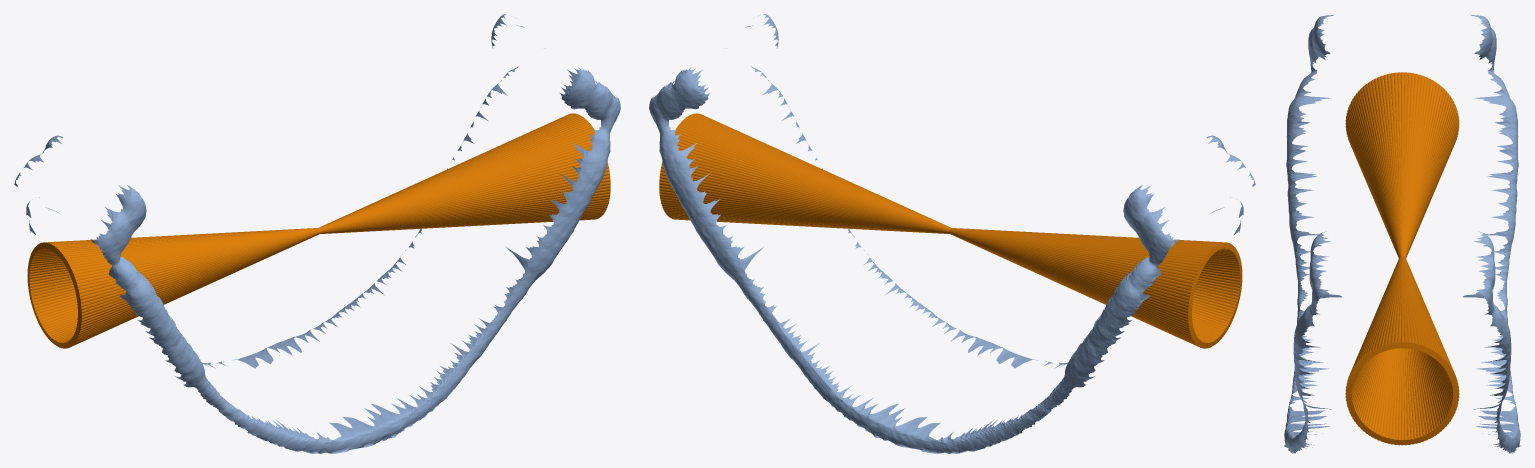
Rendered from A60026429-1_6150-37-528-8134_DigitalTwin.glb.
3 renders of one model, left to right at view 1: azimuth 30°, elevation 25°; view 2: azimuth 150°, elevation 25°; view 3: azimuth 270°, elevation 25°, orthographic. The views are drawn at different scales.
Visible parts, largest first — view 1: world; view 2: world; view 3: world.
Part boxes in pixels (<box>): world: <box>14,14,620,453</box>; world: <box>649,14,1255,453</box>; world: <box>1284,14,1520,453</box>.
Size of the model in its own units: 389 by 217 by 144.
